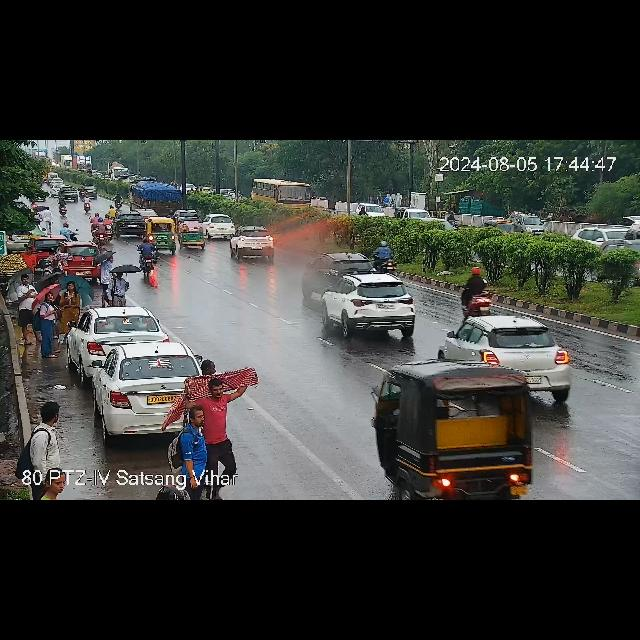bus: (247, 178, 321, 206)
car: (376, 360, 540, 500), (76, 341, 247, 437), (439, 315, 575, 381), (322, 273, 420, 333), (68, 307, 168, 365), (574, 226, 634, 252), (230, 228, 278, 260), (318, 252, 382, 274), (62, 244, 105, 276), (144, 220, 176, 250), (200, 216, 240, 237), (114, 213, 148, 235), (479, 220, 519, 236), (177, 232, 206, 248), (57, 186, 83, 202), (172, 210, 202, 222)
motorcycle: (459, 272, 497, 314), (370, 243, 402, 273), (135, 241, 161, 273), (90, 214, 114, 242), (80, 198, 94, 214), (58, 200, 70, 216)
person: (177, 357, 241, 478), (23, 400, 67, 490), (35, 291, 59, 355), (16, 276, 38, 340), (102, 268, 130, 308), (64, 280, 82, 312), (23, 247, 37, 271), (40, 257, 50, 277)
truck: (130, 180, 190, 212)
